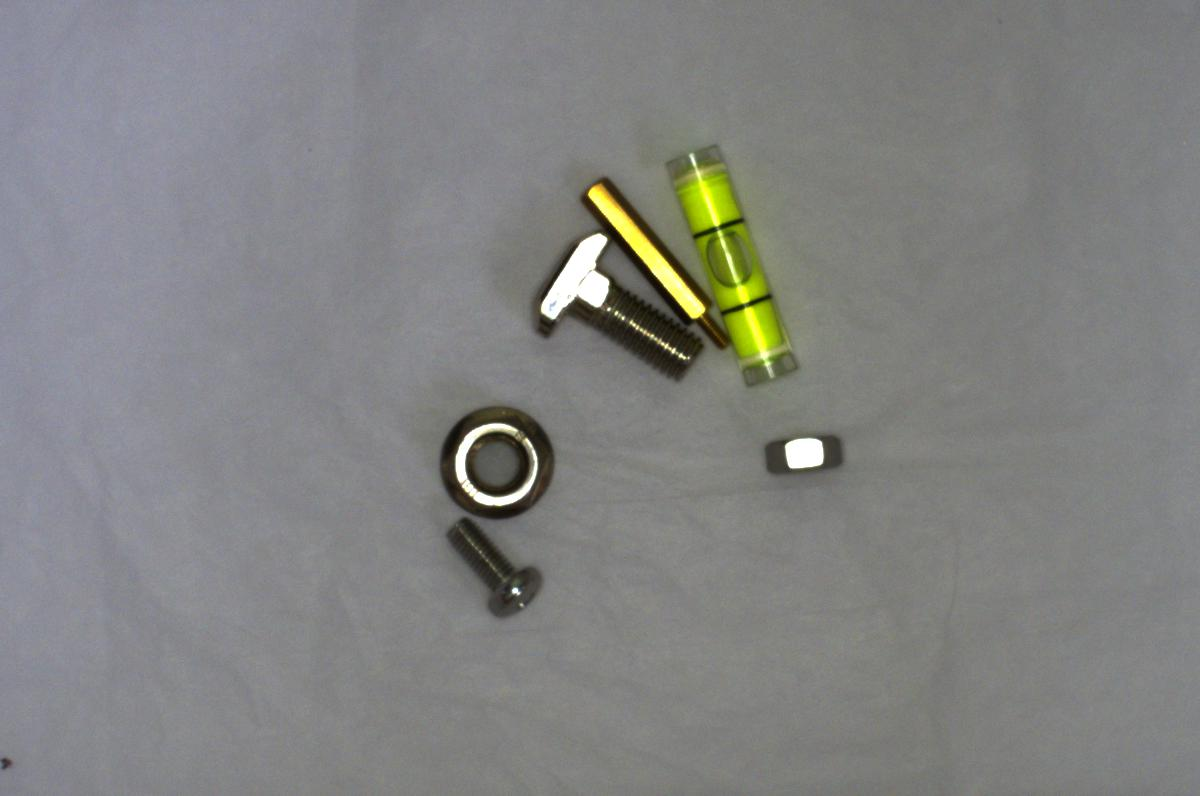Flange nut: (434, 394, 558, 515)
Hexagon nut: (751, 425, 846, 490)
Hexagon pillar: (586, 170, 740, 365)
Horizontal bubble: (666, 138, 793, 387)
Round head screw: (444, 516, 551, 629)
T-shaped screw: (530, 232, 701, 382)
